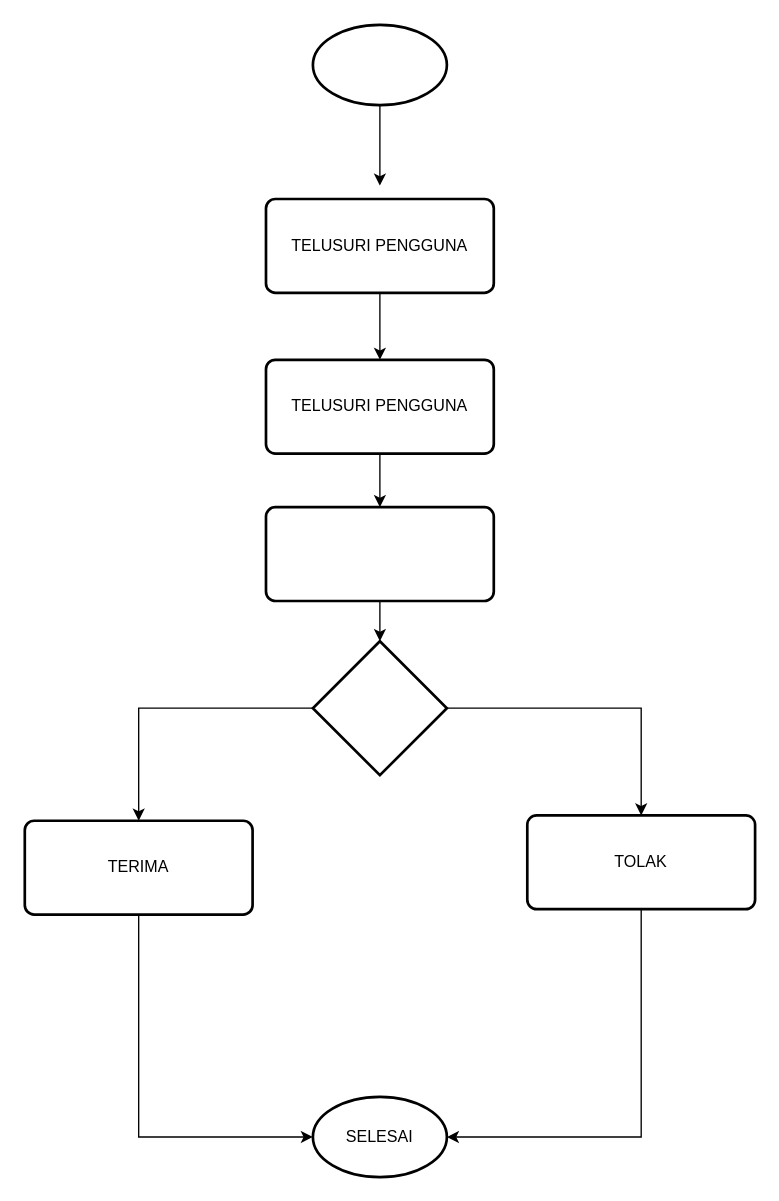
This 779x1201 diagram has some shape labels left out. Here are the shapes that lost their labels. From the top down, the centre of each, then its label:
(379,64): MULAI
(379,553): AJUKAN PERTEMANAN
(379,707): PERSETUJUAN
